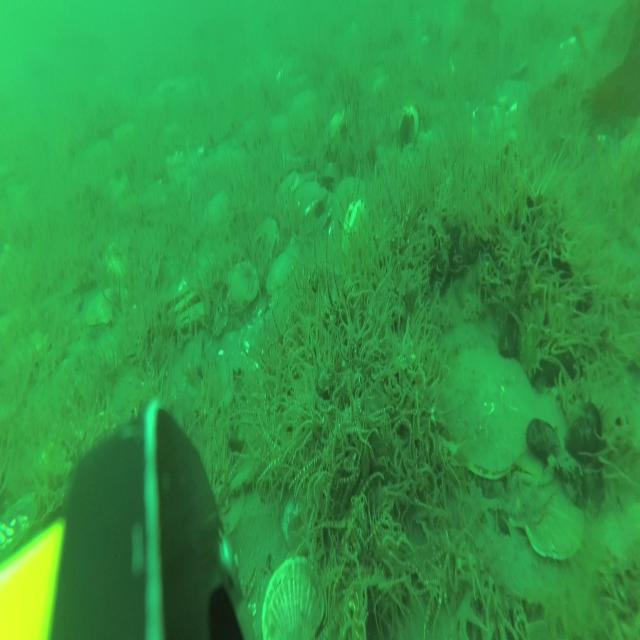scallop: (441, 353, 537, 473), (529, 471, 588, 562), (263, 560, 335, 633), (519, 394, 572, 481), (508, 440, 560, 512), (280, 489, 323, 562), (1, 497, 38, 555), (86, 287, 126, 330), (225, 264, 259, 312), (334, 174, 369, 219), (268, 244, 299, 293), (251, 218, 284, 264), (203, 194, 237, 237), (166, 281, 195, 322), (177, 301, 208, 338), (296, 182, 326, 218), (288, 86, 318, 119), (274, 174, 302, 206), (326, 104, 348, 143), (268, 114, 294, 142)
